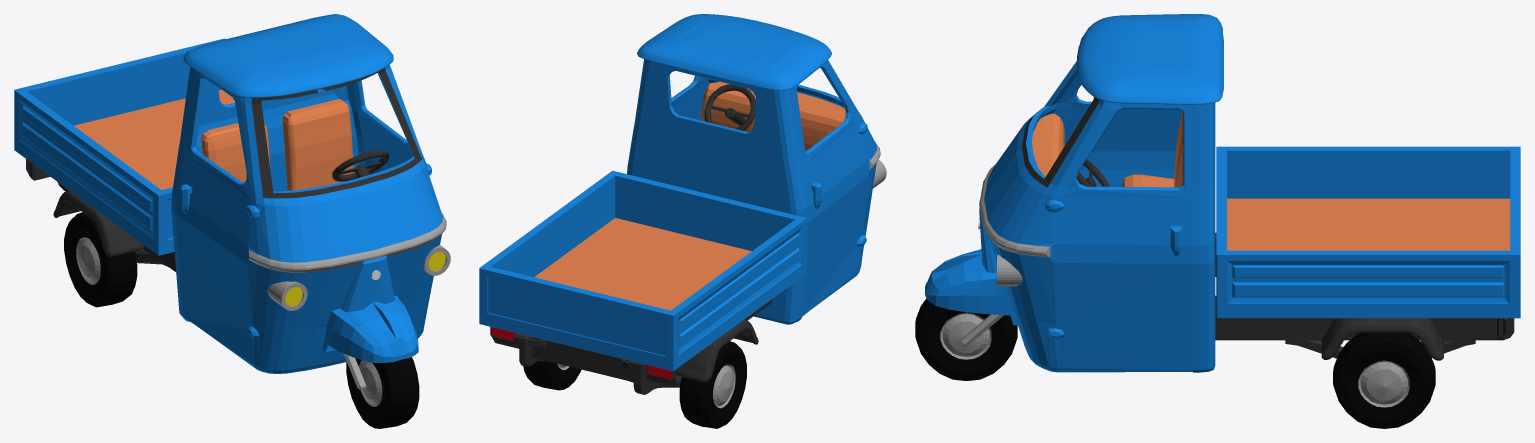
The model's file is 3wheeledtruck.fbx.
The picture shows the model from 3 angles, left to right: view 1: azimuth 30°, elevation 25°; view 2: azimuth 150°, elevation 25°; view 3: azimuth 270°, elevation 25°; orthographic projection. The views are drawn at different scales.
Parts seen in each view (by area): view 1: cabin, bed, cabin roof, Seats, Wheel RR, Wheel RL.001, wheeelcover R, steering wheel, chasis; view 2: bed, cabin, cabin roof, chasis, Wheel RR, dash, wheeelcover R, Wheel RL, steering wheel; view 3: cabin, bed, cabin roof, Wheel RL, Wheel RL.001, chasis, wheelcover L, dash, Seats, lower chasis.
Boxes of the visible parts, x1,y1,x2,y2 form: cabin: (171, 65, 450, 389); bed: (14, 38, 234, 255); cabin roof: (183, 14, 393, 97); Seats: (201, 98, 353, 190); Wheel RR: (64, 212, 137, 307); Wheel RL.001: (346, 357, 419, 428); wheeelcover R: (53, 190, 144, 256); steering wheel: (332, 150, 389, 181); chasis: (26, 159, 176, 272); bed: (479, 170, 806, 371); cabin: (627, 59, 886, 324); cabin roof: (637, 14, 831, 90); chasis: (490, 299, 772, 394); Wheel RR: (679, 341, 746, 428); dash: (701, 81, 845, 151); wheeelcover R: (676, 319, 758, 381); Wheel RL: (523, 360, 581, 390); steering wheel: (704, 84, 755, 130); cabin: (925, 61, 1215, 372); bed: (1216, 146, 1520, 318); cabin roof: (1077, 14, 1223, 104); Wheel RL: (1333, 332, 1435, 428); Wheel RL.001: (915, 298, 1017, 380); chasis: (1215, 232, 1514, 340); wheelcover L: (1321, 318, 1443, 360); dash: (1031, 113, 1064, 176); Seats: (1122, 111, 1183, 187); lower chasis: (1285, 337, 1475, 358).
Size of the model in its own units: 0.9412 by 1.32 by 2.19.
